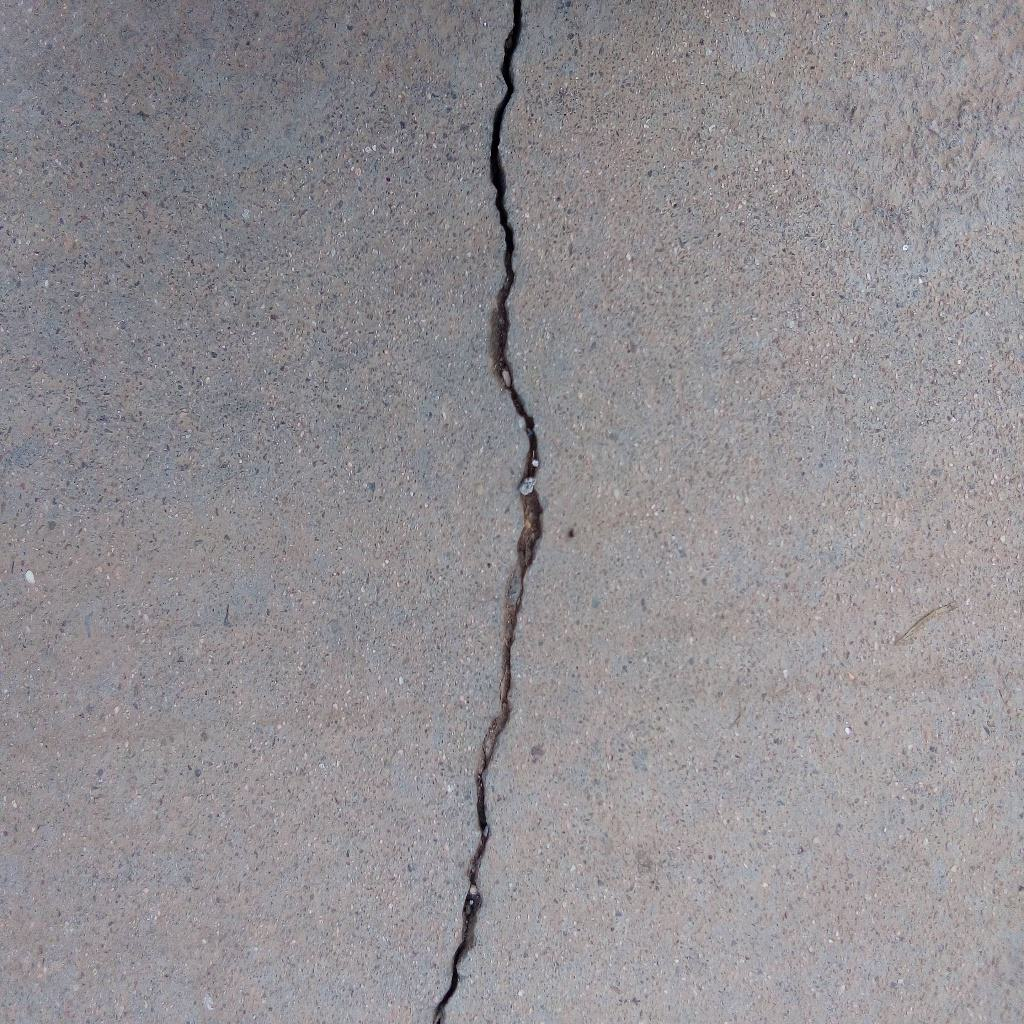Crack: (430, 1, 546, 1024)
